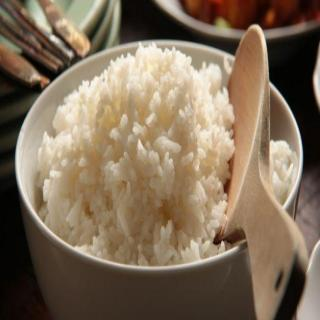Nasi: (34, 40, 299, 268)
